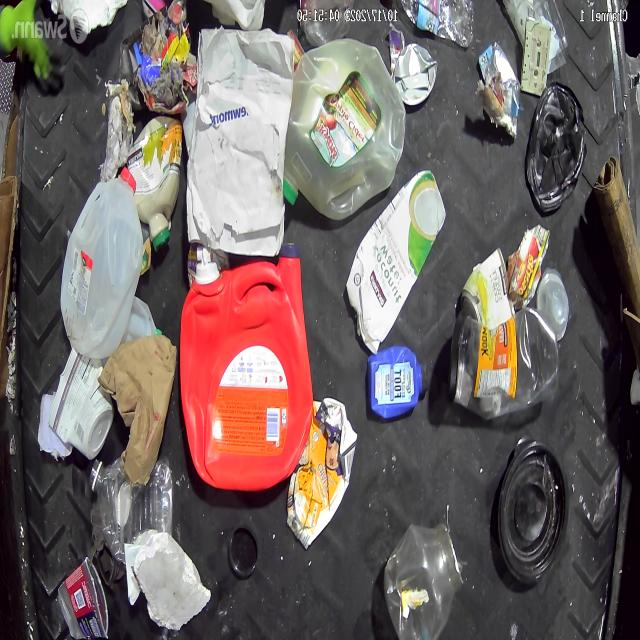milk_jug: (283, 35, 404, 220), (58, 169, 143, 357)
non_white_jug: (179, 240, 314, 492), (345, 169, 446, 356), (366, 344, 428, 422)
plastic_bottle: (89, 455, 174, 567), (401, 0, 474, 48)
